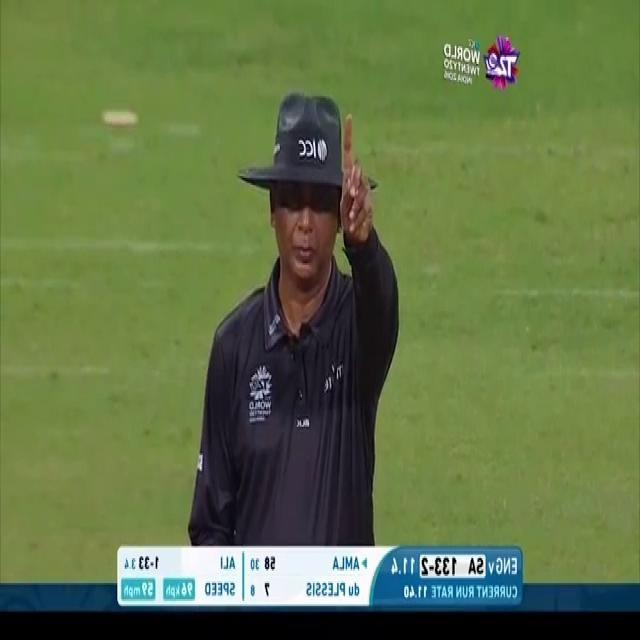Out: (184, 86, 404, 546)
